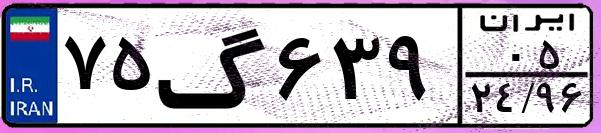0: (508, 27, 537, 80)
2: (470, 70, 495, 125)
3: (330, 28, 385, 110)
4: (495, 70, 520, 125)
5: (110, 28, 156, 98), (537, 27, 568, 80)
6: (270, 28, 330, 110), (560, 70, 590, 125)
7: (57, 26, 110, 100)
9: (385, 28, 445, 110), (535, 70, 560, 125)
گ: (156, 12, 270, 120)
